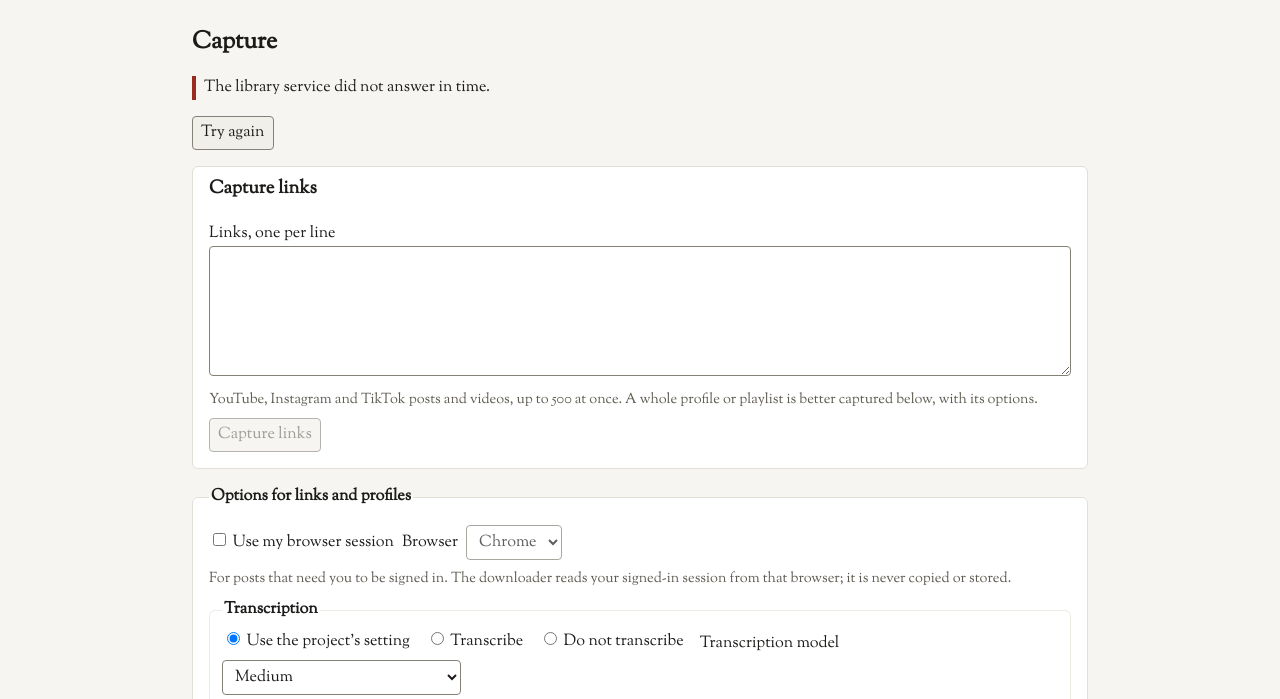
Test case: Capture: first reads that never settle or fail (FR-756) › a project read that hangs is given up at the limit, with the alert and “Try again”; pressing it reads the project again
Click the button "Try again". click: (233, 133)
box: [192,116,274,150]
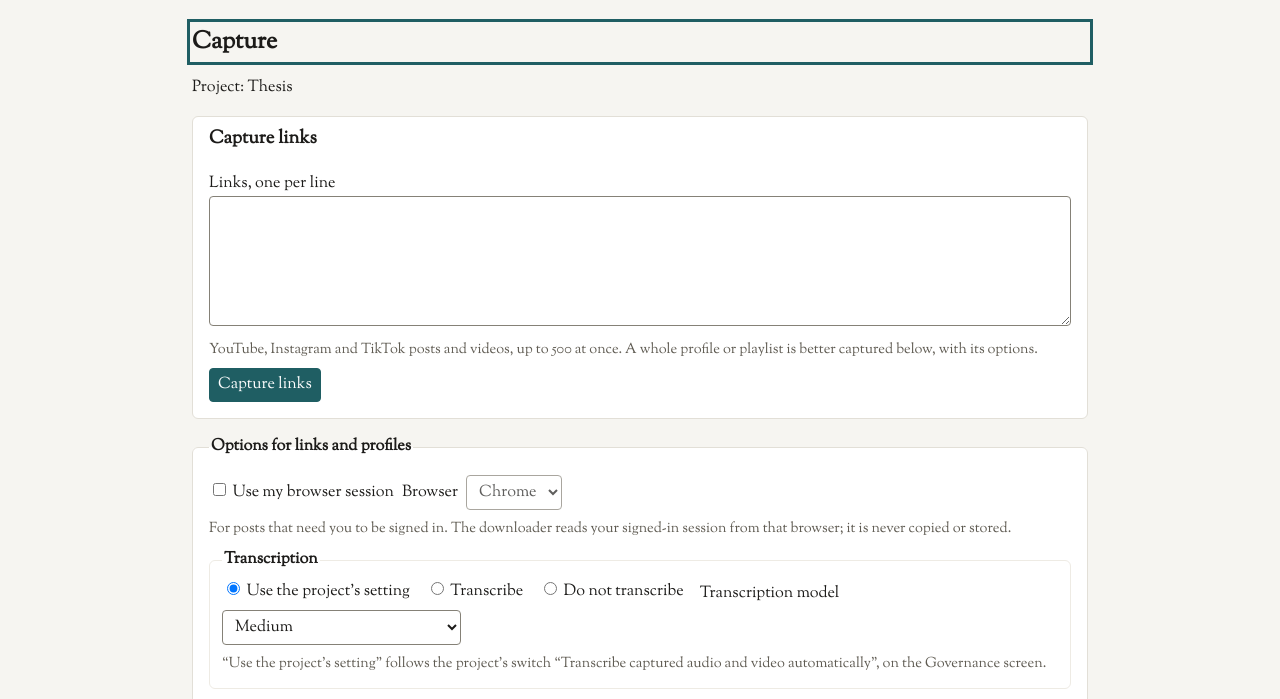
Expected: the text "Thesis" is shown, [248,76,293,99]
Expected: the button "Capture links" is enabled, [209,368,321,402]
